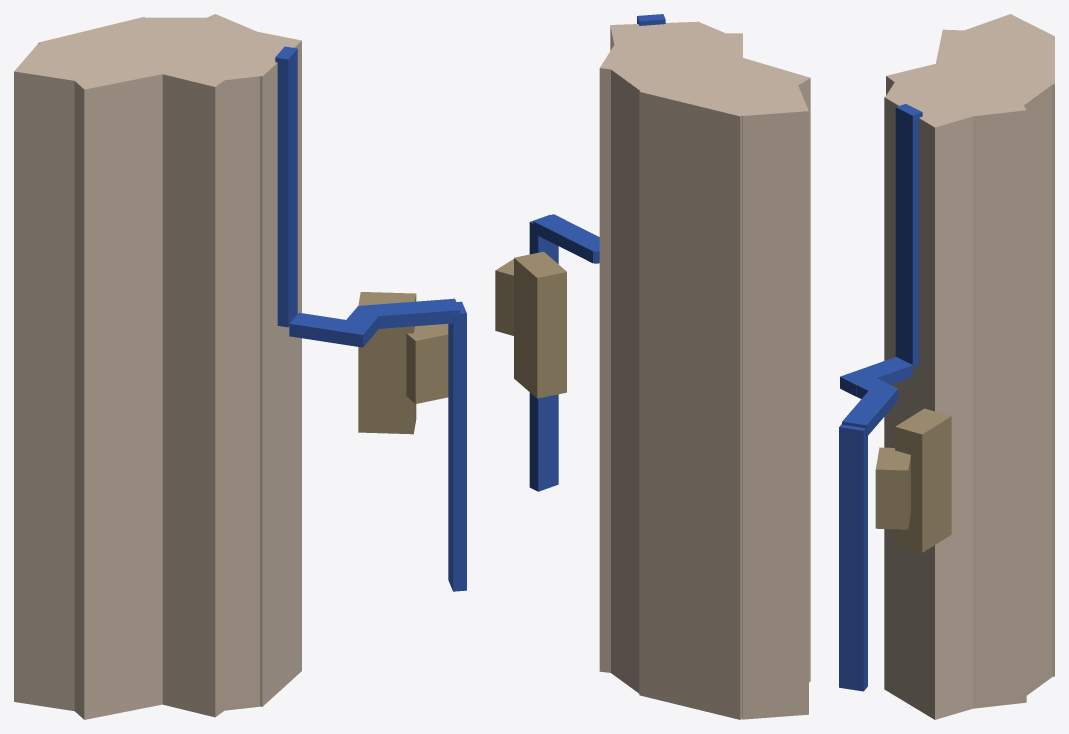
The model's file is p_SnakePassBit.fbx.
The picture shows the model from 3 angles, left to right: view 1: azimuth 30°, elevation 25°; view 2: azimuth 150°, elevation 25°; view 3: azimuth 270°, elevation 25°; orthographic projection. The views are drawn at different scales.
Visible parts, largest first — view 1: Wall_Smell__103_, Wall_Smell__105_, Wall_Smell__104_, Wall_Smell__106_, Wall_Smell__101_, SmellRamp_1__23_, Wall_Smell__114_, Wall_Smell__122_, SmellRamp_1__19_, Wall_Smell__114__1, Wall_Smell__115__1, Wall_Smell__116_ (+3 smaller); view 2: Wall_Smell__114__1, Wall_Smell__104_, Wall_Smell__115__1, Wall_Smell__113__1, SmellRamp_1__23_, Wall_Smell__103_, Wall_Smell__114_, Wall_Smell__105_, Wall_Smell__101_, Wall_Smell__113_, SmellRamp_1__19_; view 3: Wall_Smell__101_, Wall_Smell__113__1, Wall_Smell__115__1, Wall_Smell__114_, SmellRamp_1__23_, Wall_Smell__122_, Wall_Smell__114__1, Wall_Smell__103_, SmellRamp_1__19_, Wall_Smell__105_, Wall_Smell__116_, Wall_Smell__113_ (+3 smaller).
Boxes of the visible parts, x1,y1,x2,y2 form: Wall_Smell__103_: (45, 34, 184, 719); Wall_Smell__105_: (144, 44, 249, 717); Wall_Smell__104_: (14, 43, 113, 711); Wall_Smell__106_: (214, 67, 260, 710); Wall_Smell__101_: (210, 28, 301, 706); SmellRamp_1__23_: (358, 292, 416, 434); Wall_Smell__114_: (448, 301, 466, 591); Wall_Smell__122_: (275, 46, 297, 235); SmellRamp_1__19_: (406, 323, 448, 403); Wall_Smell__114__1: (38, 17, 181, 65); Wall_Smell__115__1: (144, 17, 209, 61); Wall_Smell__116_: (277, 216, 297, 327); Wall_Smell__114__1: (639, 65, 776, 719); Wall_Smell__104_: (729, 78, 808, 719); Wall_Smell__115__1: (610, 48, 725, 693); Wall_Smell__113__1: (599, 42, 678, 672); SmellRamp_1__23_: (514, 251, 566, 398); Wall_Smell__103_: (672, 53, 810, 682); Wall_Smell__114_: (529, 215, 558, 491); Wall_Smell__105_: (676, 33, 742, 66); Wall_Smell__101_: (610, 21, 702, 50); Wall_Smell__113_: (533, 214, 599, 263); SmellRamp_1__19_: (495, 259, 513, 335); Wall_Smell__101_: (884, 85, 985, 719); Wall_Smell__113__1: (951, 83, 1026, 708); Wall_Smell__115__1: (949, 64, 1052, 695); Wall_Smell__114_: (839, 424, 867, 691); SmellRamp_1__23_: (895, 408, 951, 552); Wall_Smell__122_: (895, 103, 922, 281); Wall_Smell__114__1: (981, 36, 1054, 676); Wall_Smell__103_: (934, 29, 1030, 76); SmellRamp_1__19_: (875, 447, 910, 529); Wall_Smell__105_: (886, 59, 986, 99); Wall_Smell__116_: (895, 264, 918, 366); Wall_Smell__113_: (842, 389, 897, 437).
Size of the model in its own units: 3170 by 5038 by 1651.
